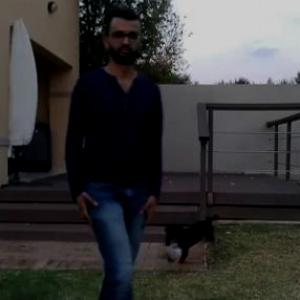follow: (83, 25, 182, 299)
